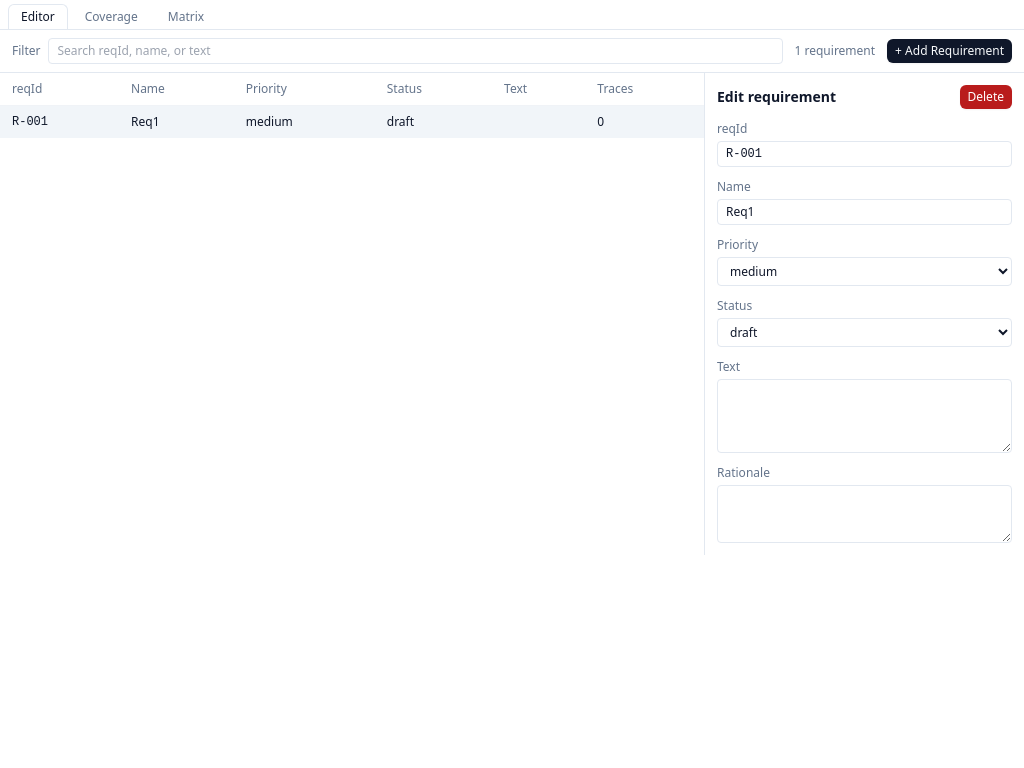
Test: <RequirementsSurface /> › Delete button removes the requirement and clears selection
Click the button with test id "requirements-surface-delete". click: (986, 97)
box: 960,85 -> 1012,109
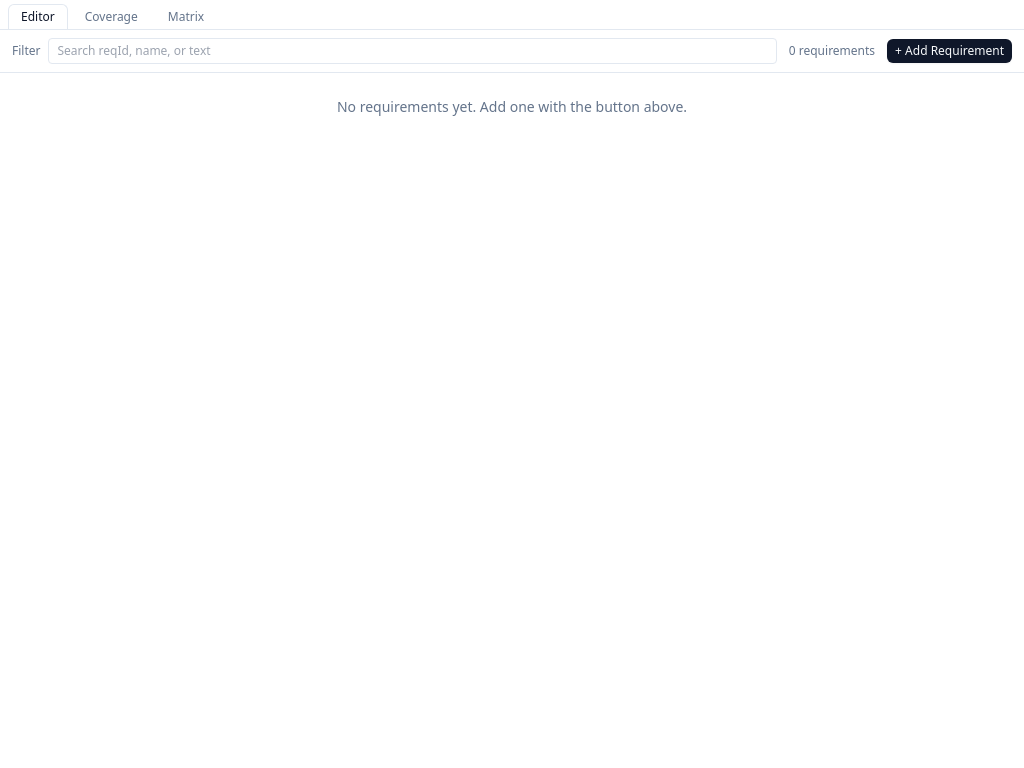
Result: the element with test id "requirements-surface-form" is gone
